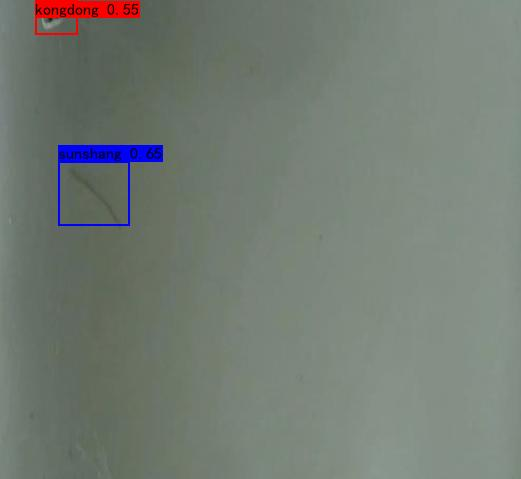kongdong: (38, 2, 77, 33)
